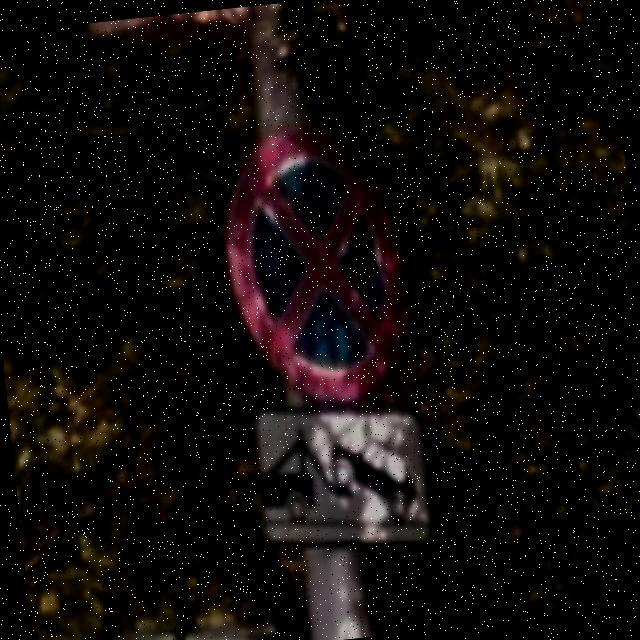Zakaz zatrzymywania sie: (213, 118, 419, 415)
